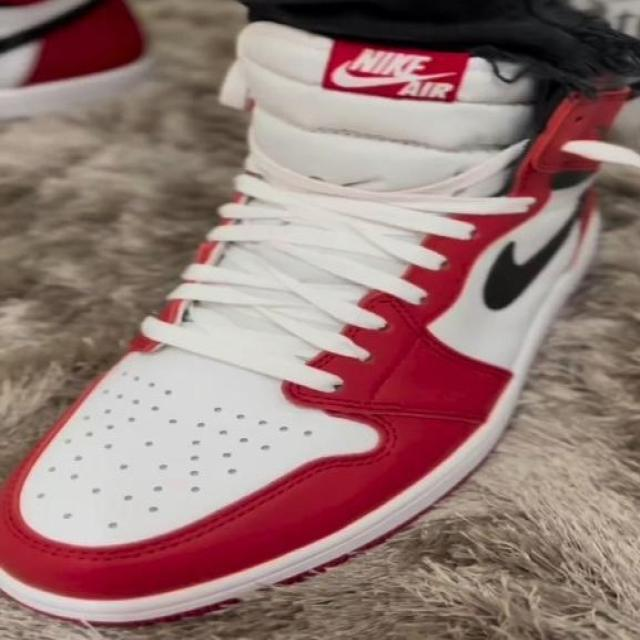J1_InsoleChar: (0, 9, 639, 628)
J1_MateComp: (0, 0, 153, 121)
J1_ShoeLogo: (322, 41, 470, 103)
J1_ShoeShape: (214, 0, 639, 92)
J1_StitchPattern: (140, 147, 532, 393), (49, 373, 311, 530), (179, 176, 393, 354), (99, 389, 260, 489), (479, 189, 592, 314)
